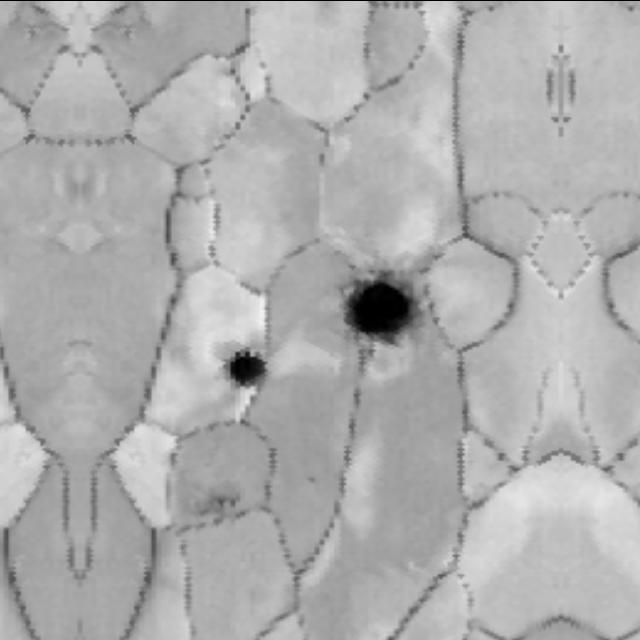good_void: (338, 266, 422, 359), (217, 341, 279, 398), (185, 476, 246, 523), (302, 467, 322, 487)
